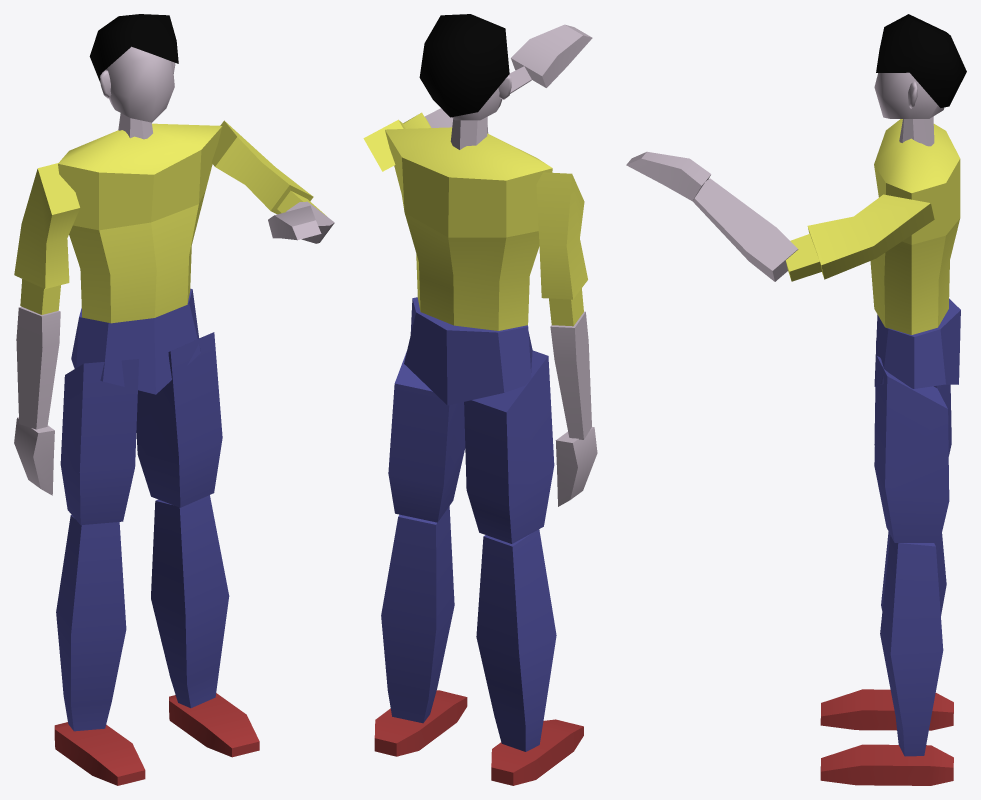
The model's file is lampActive.fbx.
The picture shows the model from 3 angles, left to right: view 1: azimuth 30°, elevation 25°; view 2: azimuth 150°, elevation 25°; view 3: azimuth 270°, elevation 25°; orthographic projection. The views are drawn at different scales.
Parts seen in each view (by area): view 1: torso, E_perna02, D_perna02, E_perna01, D_perna01, pelvis, D_ombro, head, D_braco, E_ombro, D_pe, E_pe (+4 smaller); view 2: torso, D_perna02, D_perna01, E_perna02, E_perna01, pelvis, cabelo, D_ombro, D_braco, D_pe, E_pe, E_mao1 (+4 smaller); view 3: torso, E_perna01, E_perna02, E_ombro, cabelo, pelvis, E_pe, E_braco, D_pe, head, E_mao1, D_perna02.
Boxes of the visible parts, x1,y1,x2,y2 form: torso: (58, 123, 222, 323); E_perna02: (151, 495, 229, 708); D_perna02: (56, 515, 126, 731); E_perna01: (136, 332, 222, 507); D_perna01: (60, 359, 138, 524); pelvis: (71, 288, 200, 394); D_ombro: (14, 163, 79, 314); head: (100, 46, 175, 139); D_braco: (16, 306, 60, 429); E_ombro: (211, 120, 326, 215); D_pe: (54, 722, 145, 785); E_pe: (169, 693, 259, 757); torso: (385, 127, 552, 330); D_perna02: (476, 529, 556, 751); D_perna01: (464, 350, 554, 543); E_perna02: (381, 506, 454, 723); E_perna01: (388, 351, 465, 522); pelvis: (404, 297, 532, 405); cabelo: (419, 14, 509, 117); D_ombro: (536, 172, 587, 326); D_braco: (550, 311, 591, 439); D_pe: (491, 719, 583, 785); E_pe: (374, 690, 467, 756); E_mao1: (511, 24, 592, 87); torso: (870, 119, 960, 334); E_perna01: (874, 356, 949, 542); E_perna02: (880, 535, 943, 756); E_ombro: (786, 194, 934, 281); cabelo: (876, 14, 966, 107); pelvis: (874, 298, 960, 388); E_pe: (820, 744, 953, 785); E_braco: (692, 178, 798, 281); D_pe: (820, 689, 953, 730); head: (874, 72, 944, 146); E_mao1: (626, 151, 711, 201); D_perna02: (881, 531, 946, 615).
Bounding box in the file's own units: 17.22 × 48.59 × 20.64.
